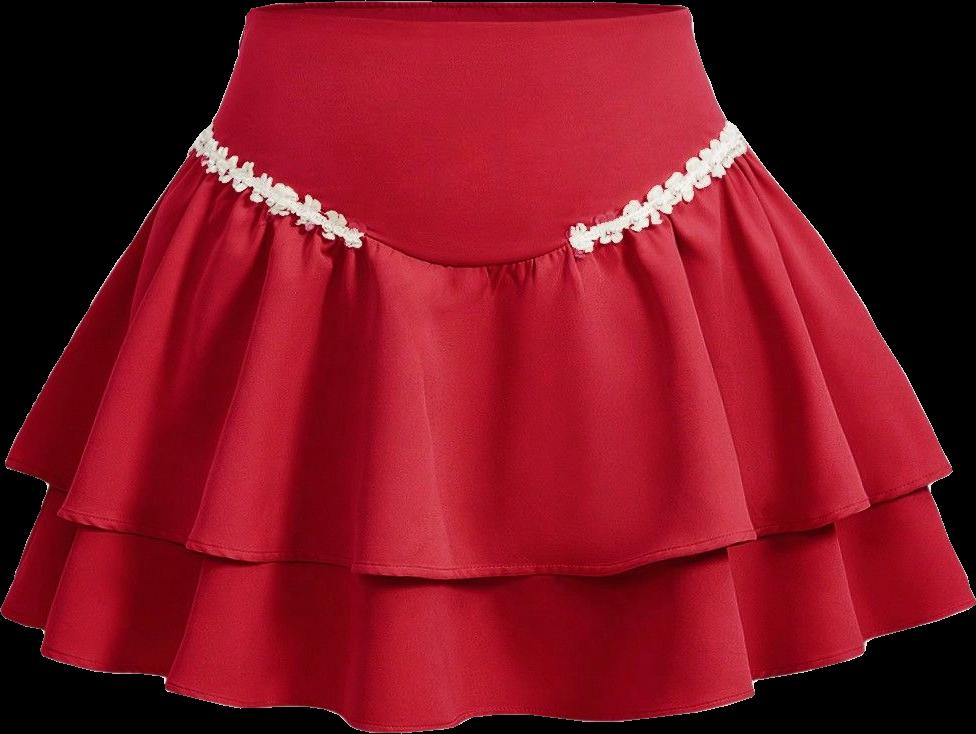Hemline: (0, 598, 975, 733), (4, 459, 955, 582)
Waistline: (197, 123, 739, 270), (247, 3, 692, 30)
